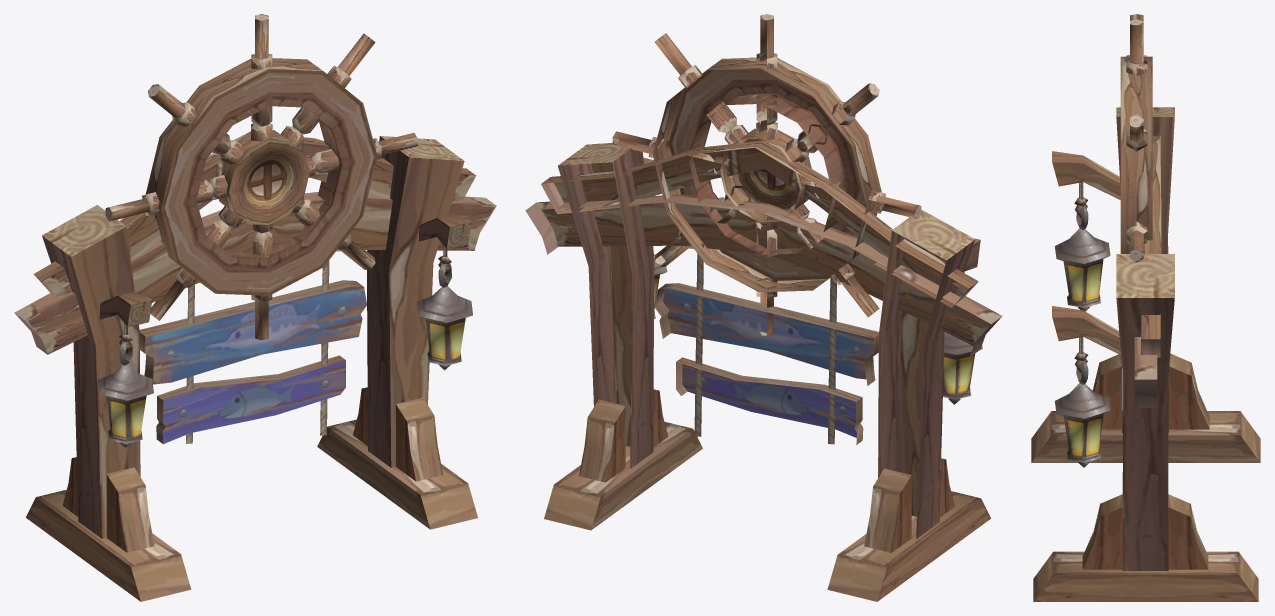
Rendered from map_1002_wj_30.FBX.
3 views of the same model, side by side, from view 1: azimuth 30°, elevation 25°; view 2: azimuth 150°, elevation 25°; view 3: azimuth 270°, elevation 25° (orthographic).
Parts seen in each view (by area): view 1: map_1002_wj_30; view 2: map_1002_wj_30; view 3: map_1002_wj_30.
Boxes of the visible parts, x1=… form: map_1002_wj_30: x1=14, y1=14, x2=496, y2=601; map_1002_wj_30: x1=525, y1=14, x2=1002, y2=601; map_1002_wj_30: x1=1031, y1=14, x2=1260, y2=601.
Bounding box in the file's own units: 5.7 × 5.81 × 2.41.
